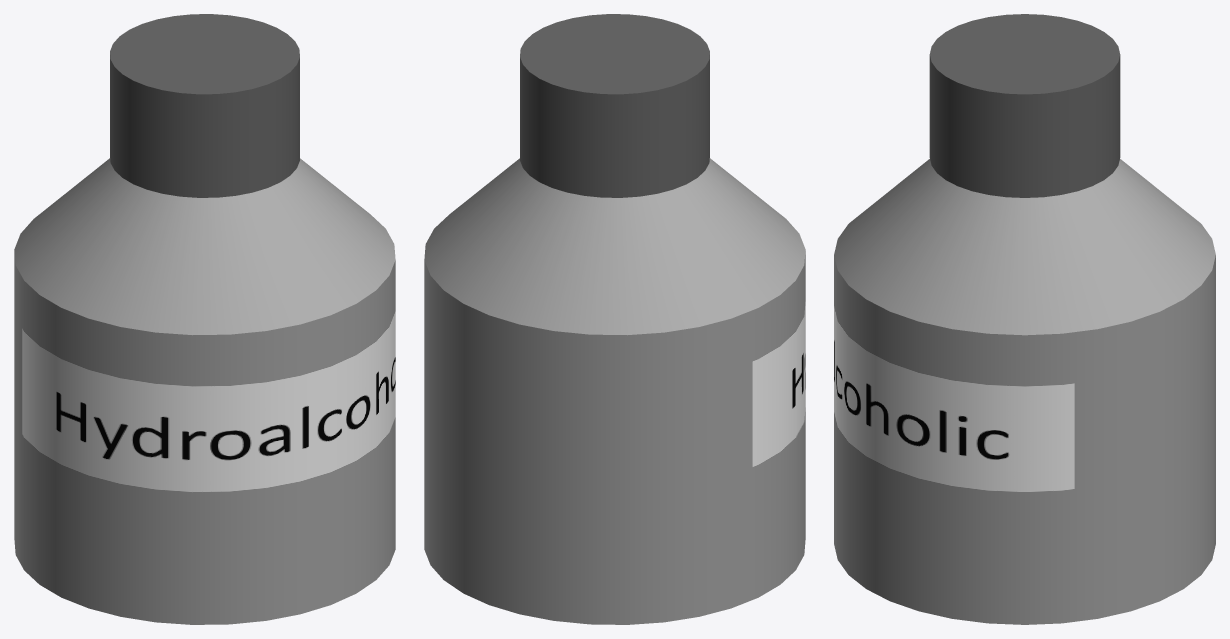
File: bottle.fbx
3 renders of one model, left to right at view 1: azimuth 30°, elevation 25°; view 2: azimuth 150°, elevation 25°; view 3: azimuth 270°, elevation 25°, orthographic.
Parts seen in each view (by area): view 1: Cylinder.001, Cylinder; view 2: Cylinder.001, Cylinder; view 3: Cylinder.001, Cylinder.
Boxes of the visible parts, x1=… form: Cylinder.001: x1=14, y1=158, x2=395, y2=624; Cylinder: x1=110, y1=14, x2=299, y2=197; Cylinder.001: x1=424, y1=158, x2=805, y2=624; Cylinder: x1=520, y1=14, x2=709, y2=197; Cylinder.001: x1=834, y1=159, x2=1215, y2=624; Cylinder: x1=929, y1=14, x2=1120, y2=197.
Bounding box in the file's own units: 200 × 284 × 200.
